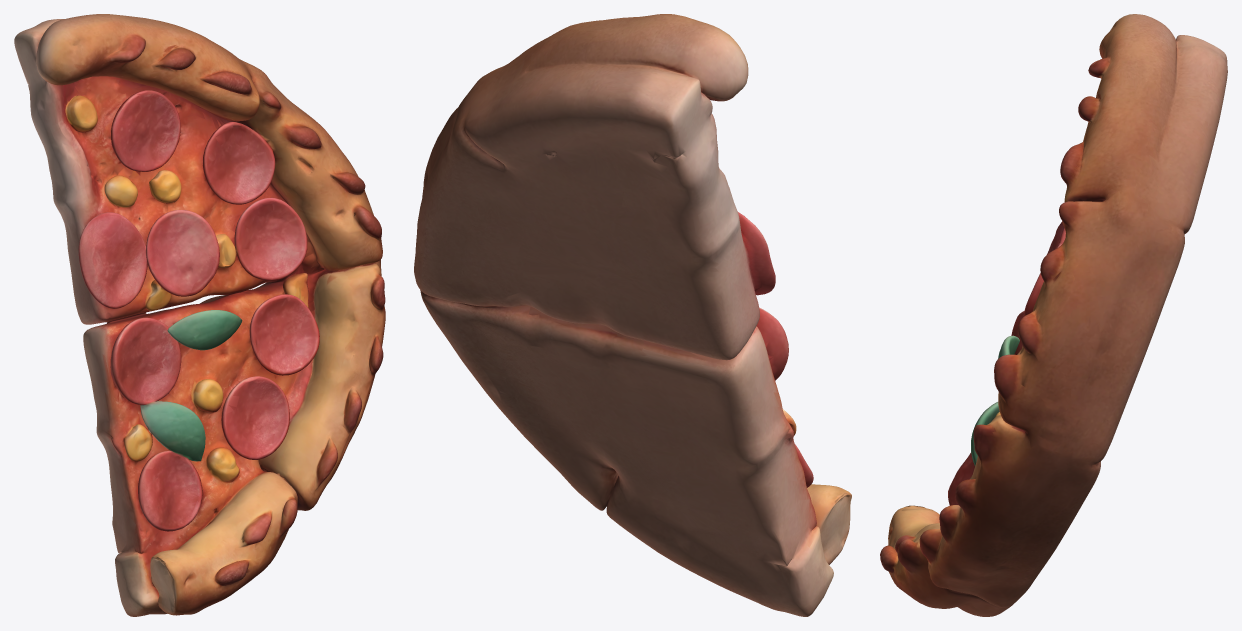
The model's file is Stack 2c - Pizza.glb.
3 views of the same model, side by side, from view 1: azimuth 30°, elevation 25°; view 2: azimuth 150°, elevation 25°; view 3: azimuth 270°, elevation 25° (orthographic). The views are drawn at different scales.
Visible parts, largest first — view 1: Stack 2c - Pizza · mesh; view 2: Stack 2c - Pizza · mesh; view 3: Stack 2c - Pizza · mesh.
Boxes of the visible parts, left/top/right/bottom form: Stack 2c - Pizza · mesh: left=14, top=14, right=385, bottom=616; Stack 2c - Pizza · mesh: left=414, top=14, right=851, bottom=616; Stack 2c - Pizza · mesh: left=880, top=14, right=1227, bottom=616.
Bounding box in the file's own units: 0.583 × 1 × 0.543.
Materials: 1 (1 with a texture image).
